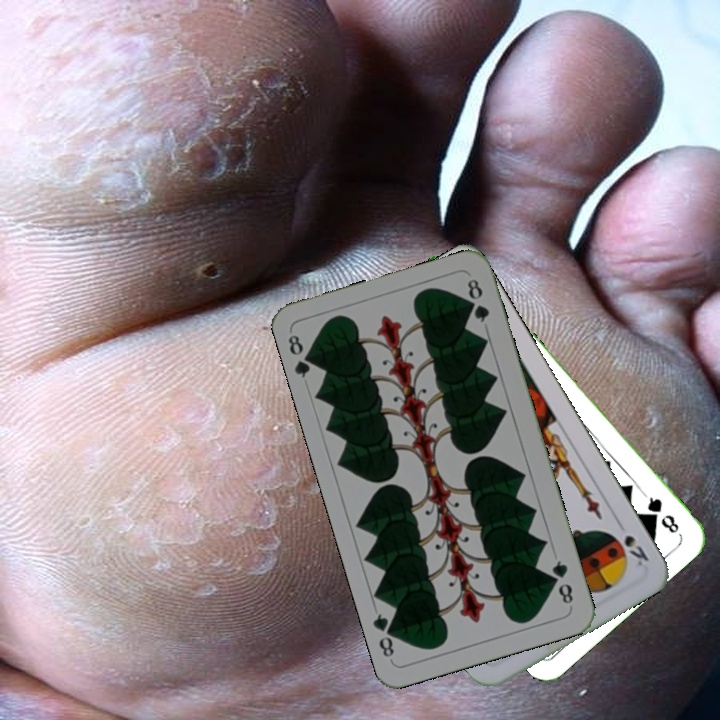G8: (639, 489, 682, 536), (283, 330, 319, 381), (547, 556, 576, 607)
SK: (612, 516, 652, 570)
